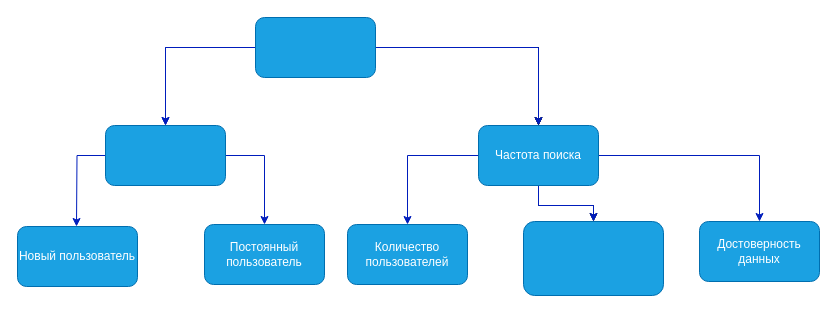
Some shapes in this 837 by 313 pixel diagram are drawn without their labels. Here are the shapes that lost their labels. From the top down, the centre of each, then its label:
At pixel 315 47: "Количество поисков".
At pixel 165 155: "Число пользователей".
At pixel 593 258: "Количество интеграций с другими компаниями".
